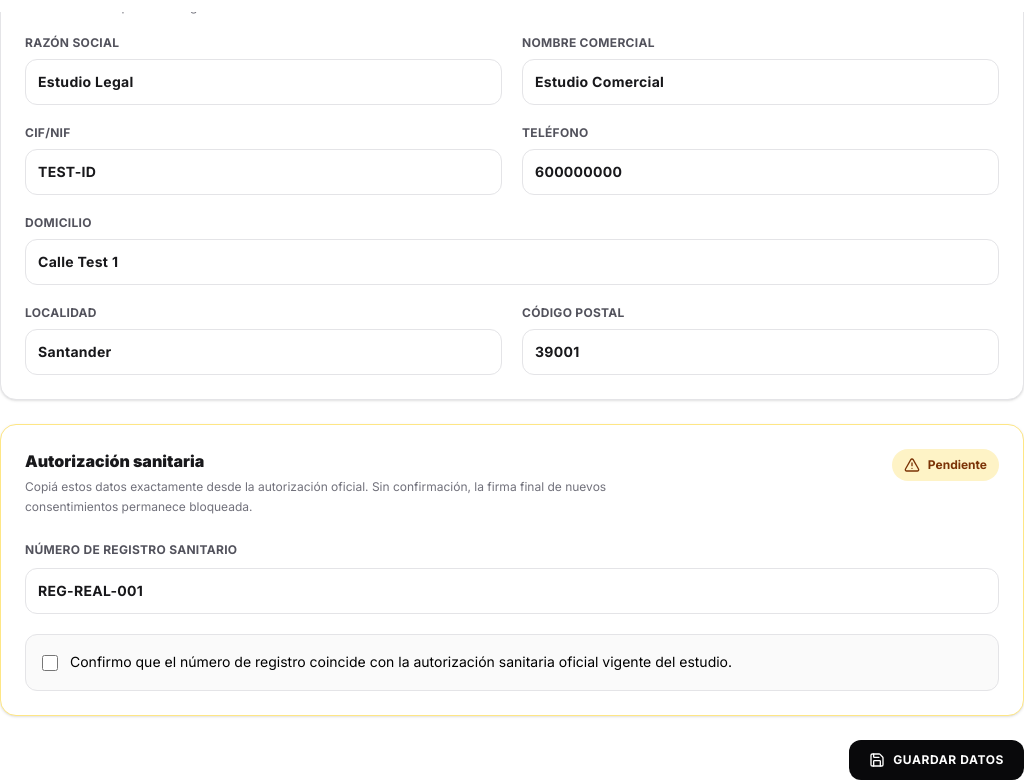
Test: StudioSettingsManager › loads studio data without exposing an authorization date and attests the registration number
This screenshot has width=1036, height=780.
(page scrolled)
Expected: the field showing "Estudio Legal" is shown, [25,59,502,105]
Expected: the text "Pendiente" is shown, [892,449,999,481]
Click the checkbox named "número de registro coincide con la autorización sanitaria oficial".
click(50, 663)  # box [42,655,58,671]
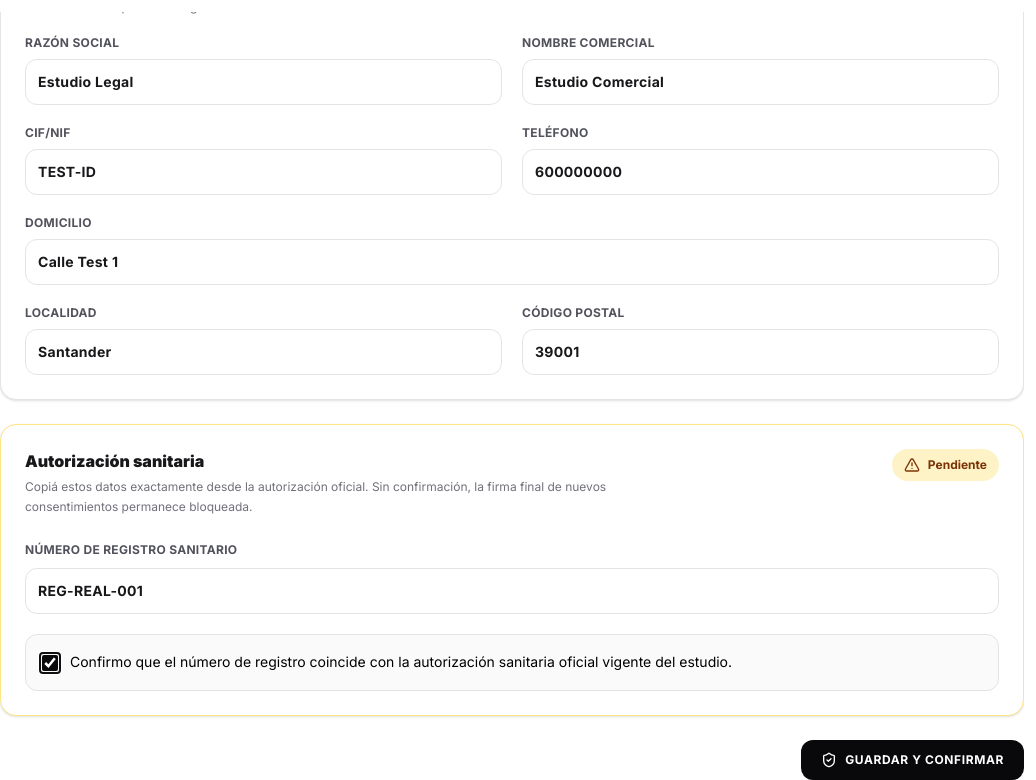
Click the button "Guardar y confirmar".
click(913, 760)  # box [801,740,1024,779]
(page scrolled)
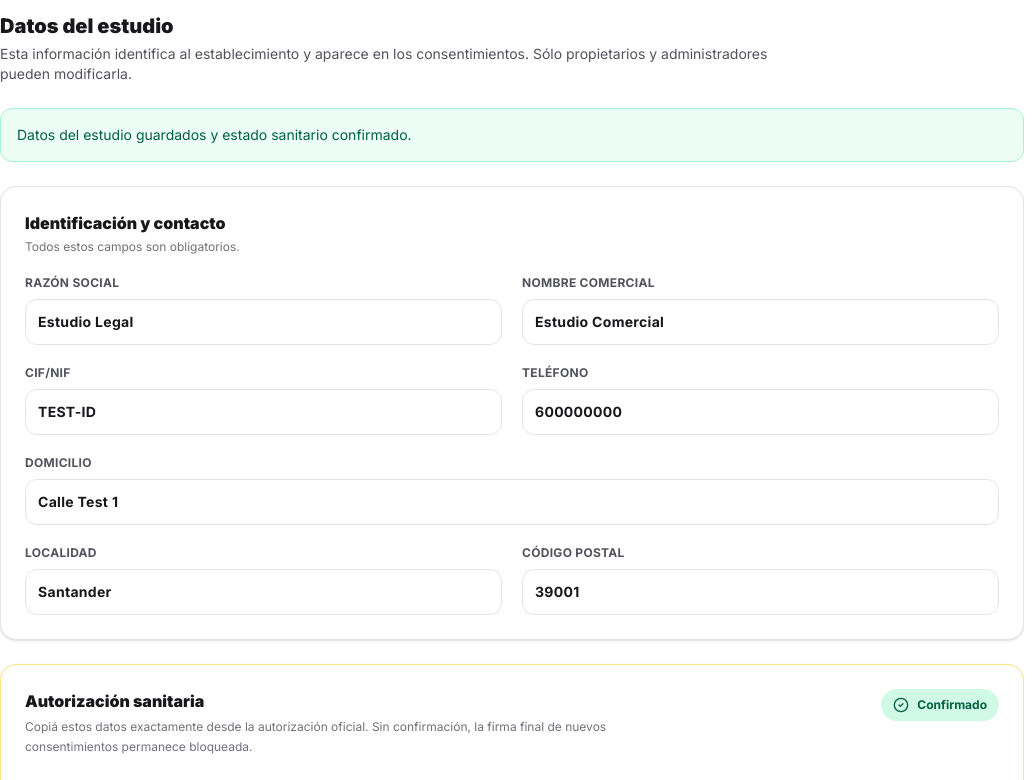
Expected: the text "Datos del estudio guardados y estado sanitario confirmado." is shown, [0,108,1024,162]
